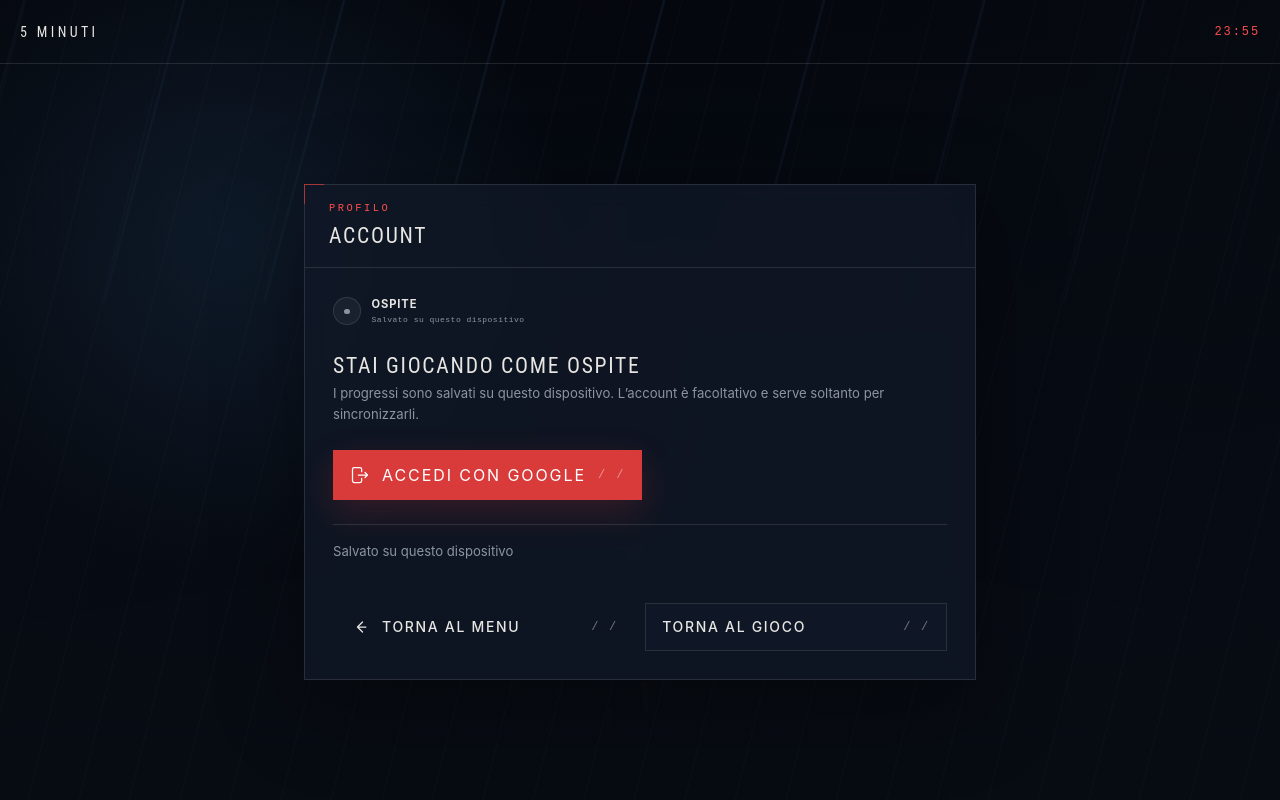
account UI › gestisce errore auth e session expiry senza bloccare la modalità guest
This screenshot has width=1280, height=800.
Click the button "Accedi con Google / /". click: [488, 475]
box: [333,450,642,500]
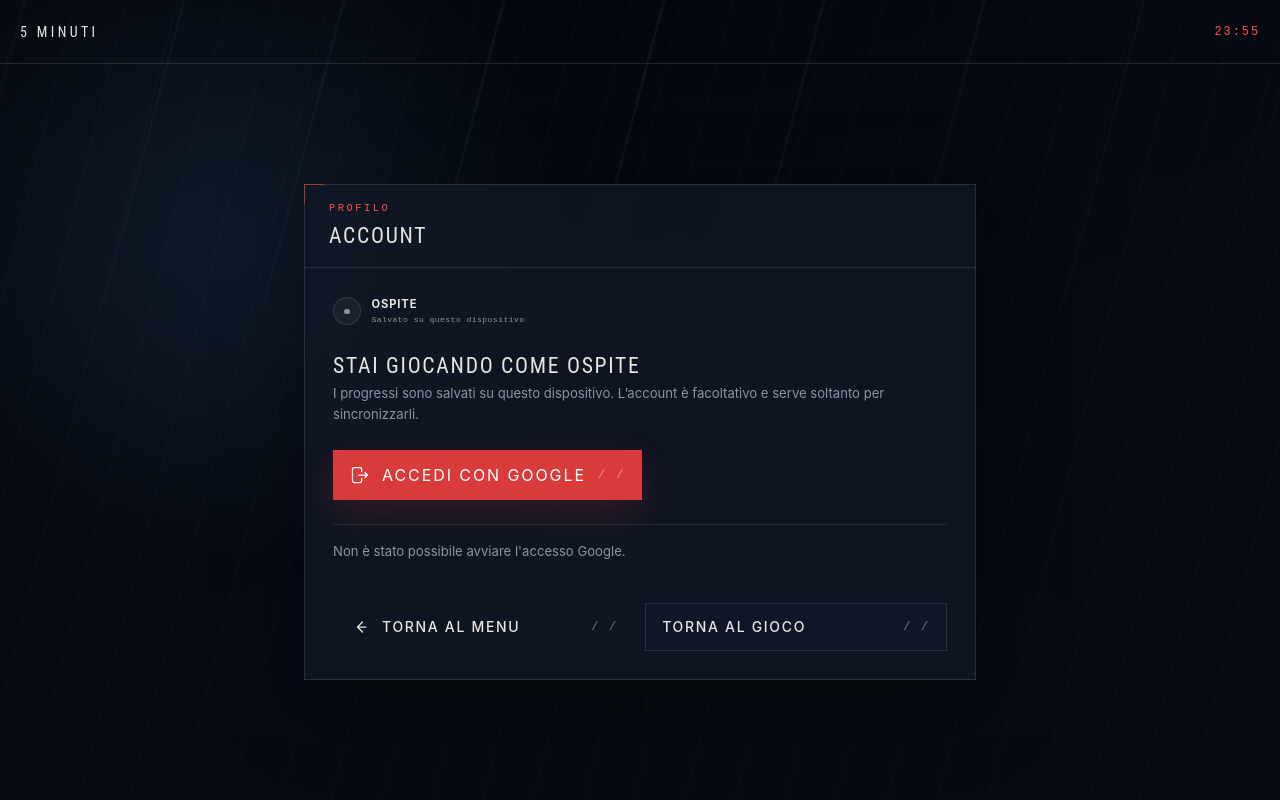
Expected: the text "loris@example.test" is shown, [333,383,947,426]
Expected: the text "Non è stato possibile avviare l'accesso Google." is shown, [333,524,947,563]
